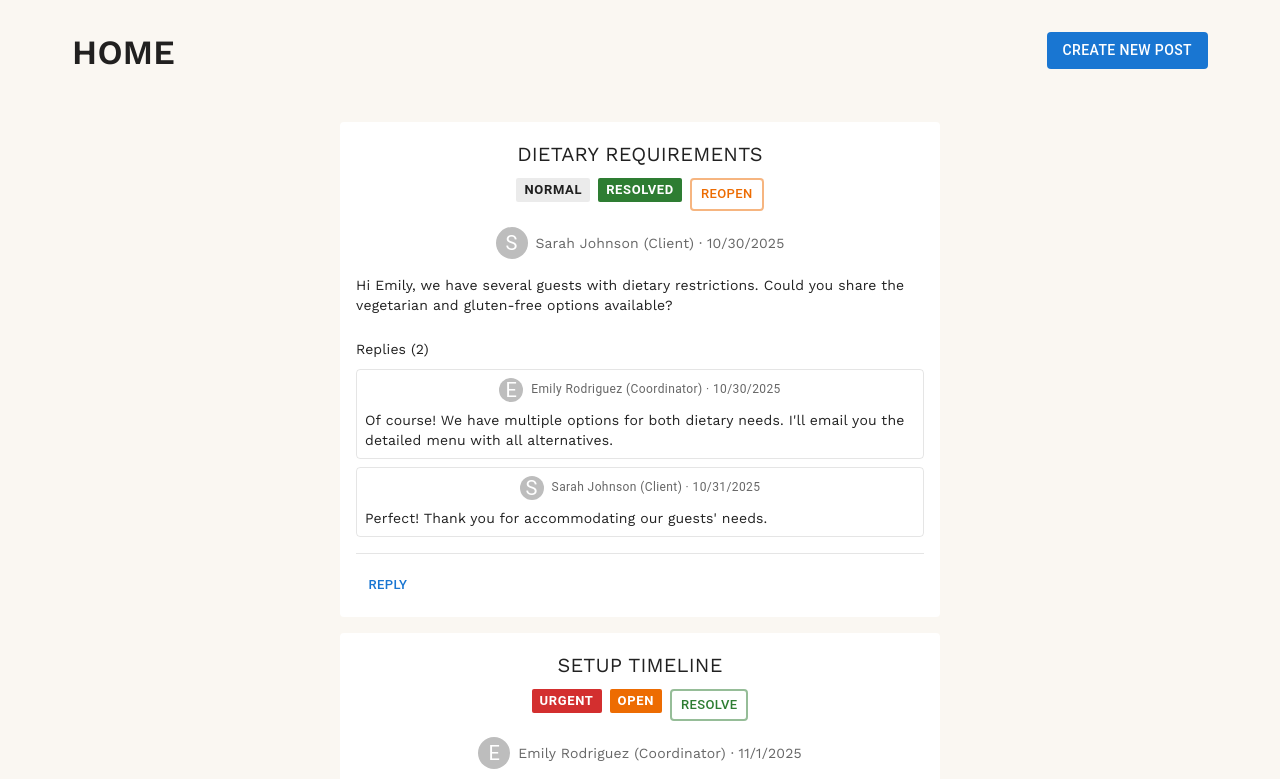
Test: Discussions Page › Create Post Functionality › closes dialog after creating post
Click the button "Create New Post" at (1127,50), box [1046,32,1208,68]
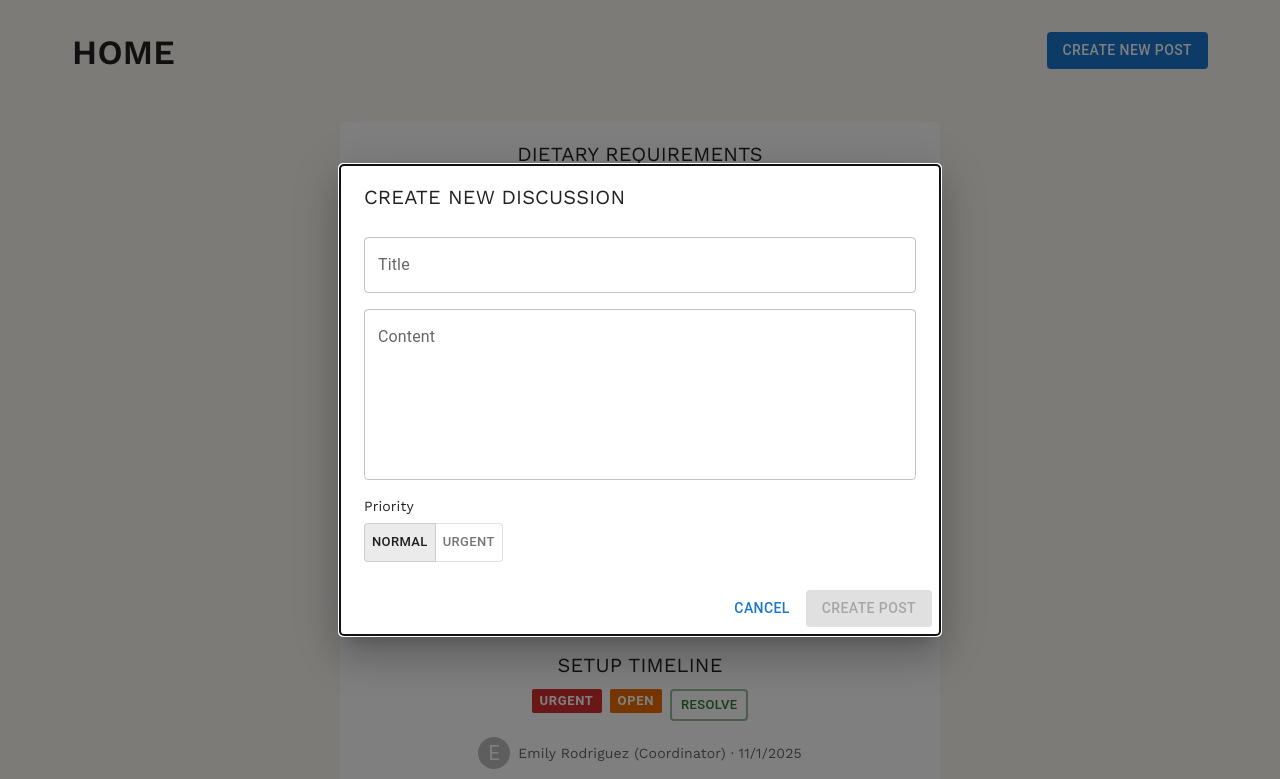
Type "Another Test" into the field labelled "Title" at (640,265), box [364,237,916,293]
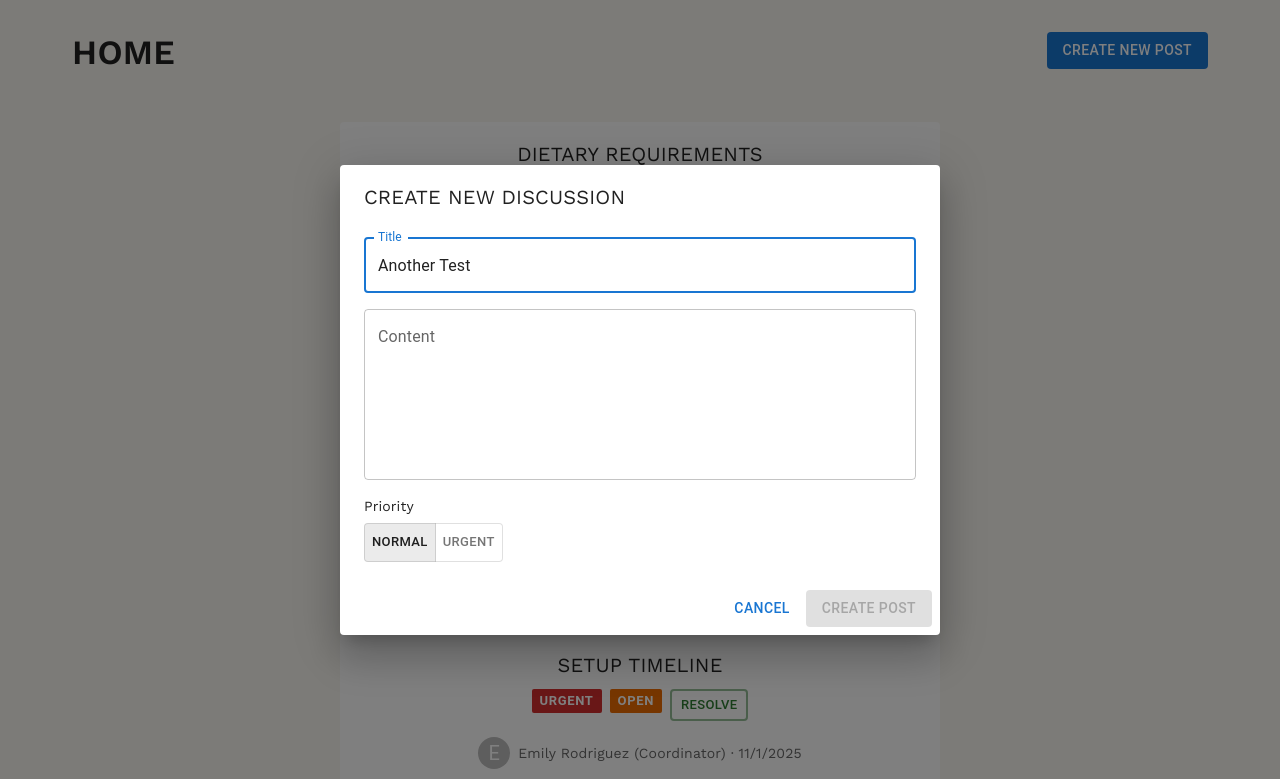
Type "Content here" into the text box labelled "Content" at (640,395), box [378,326,902,464]
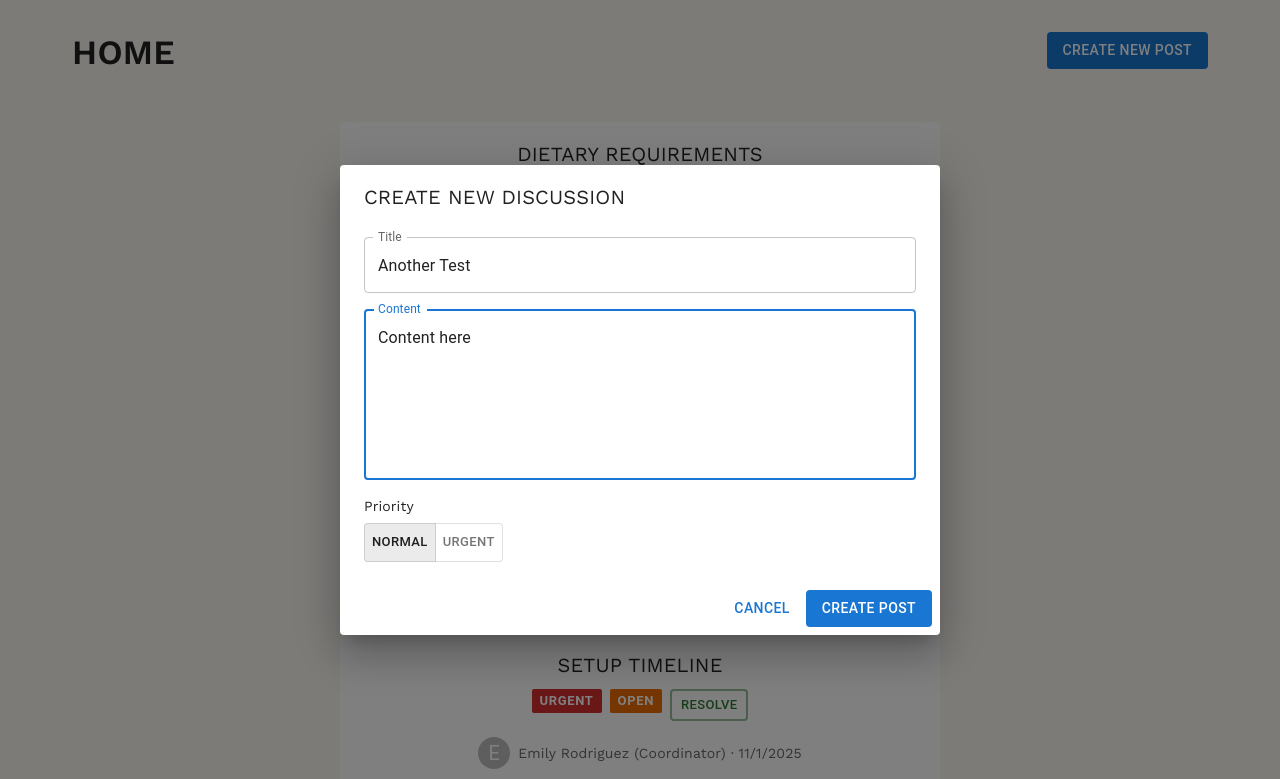
Click the button "Create Post" at (869,608), box [806,590,932,626]
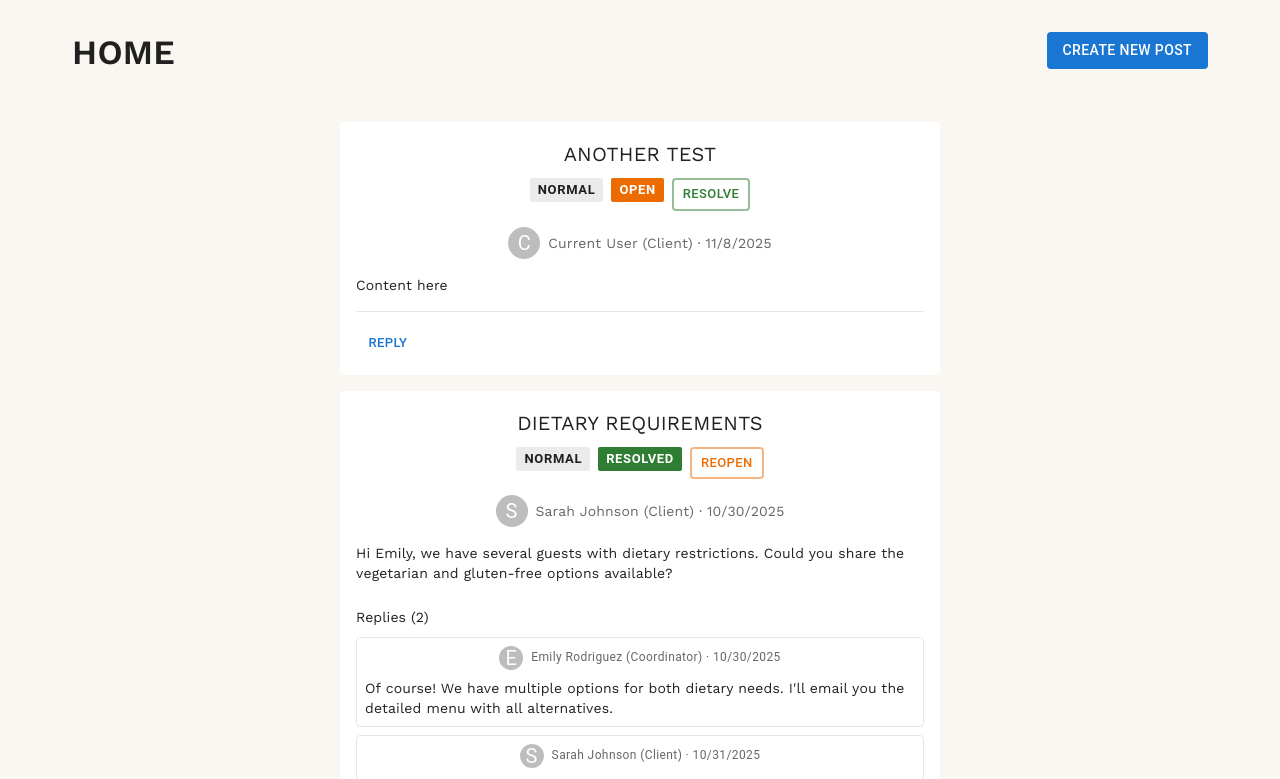
Result: the dialog is gone
